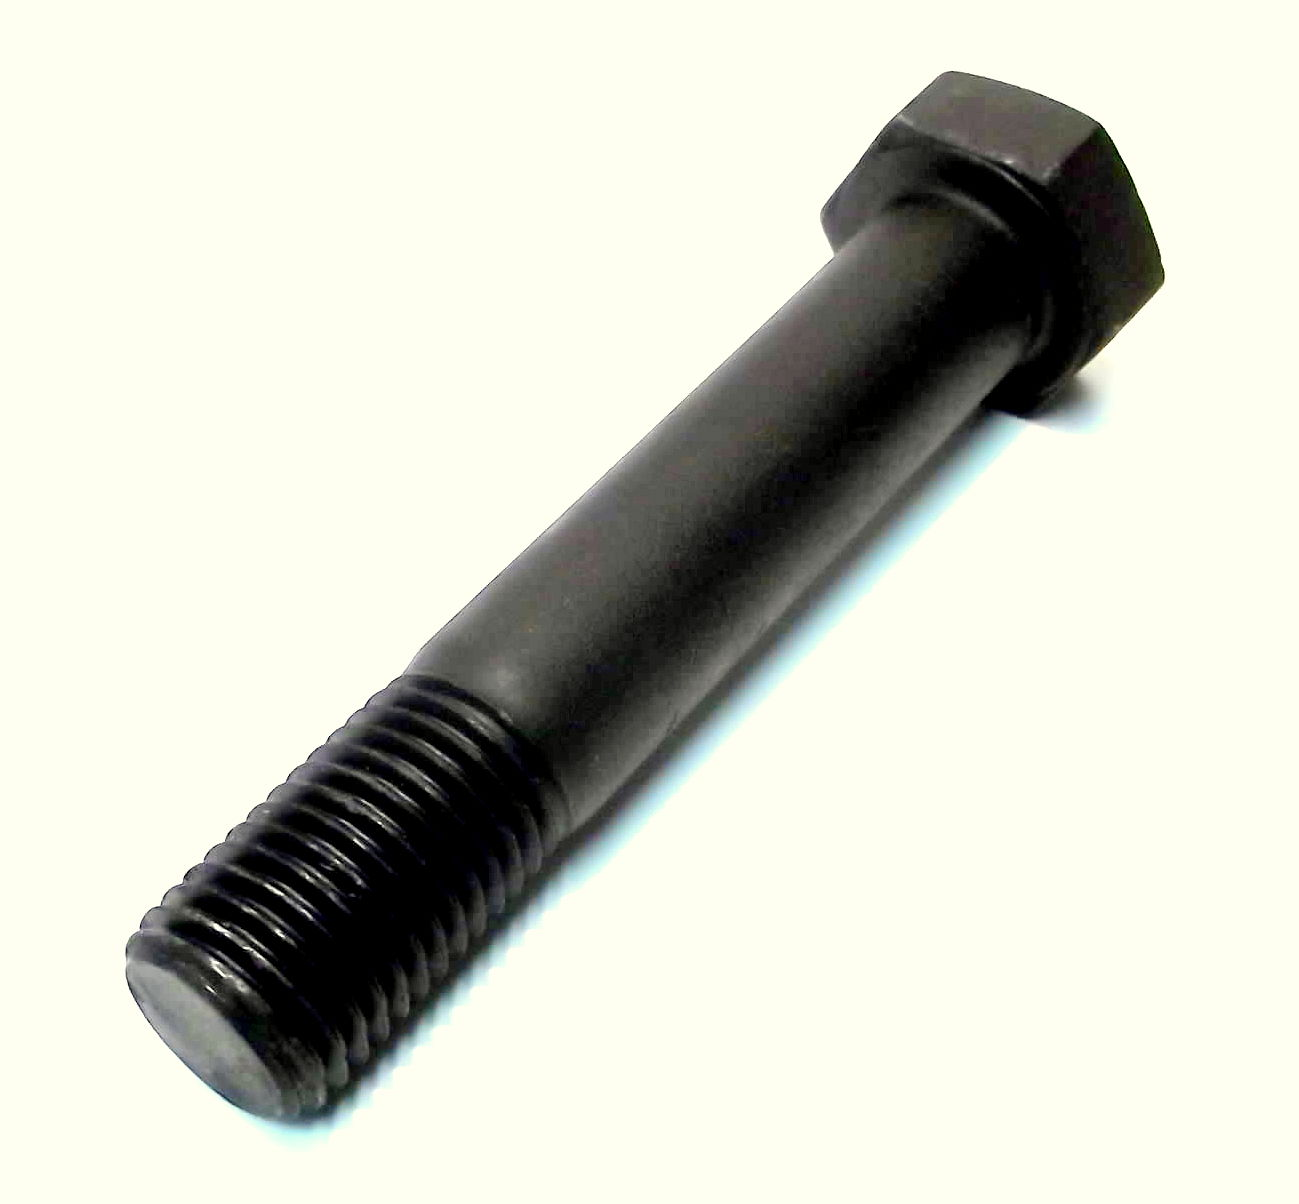screw: (123, 72, 1165, 1123)
